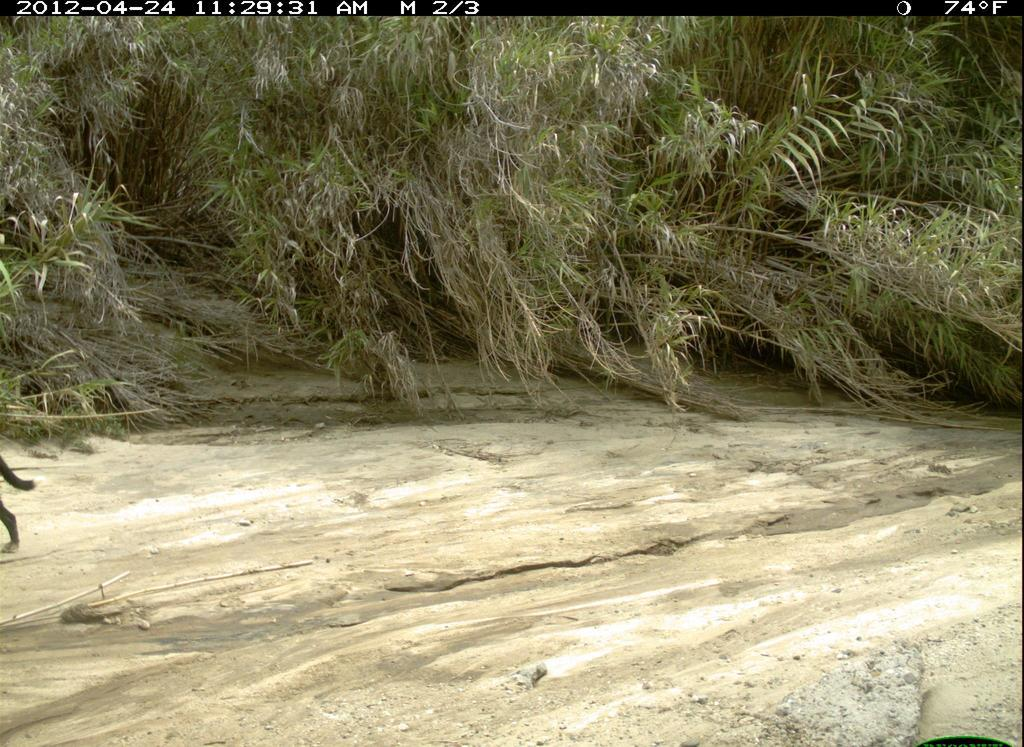dog: (1, 450, 41, 564)
